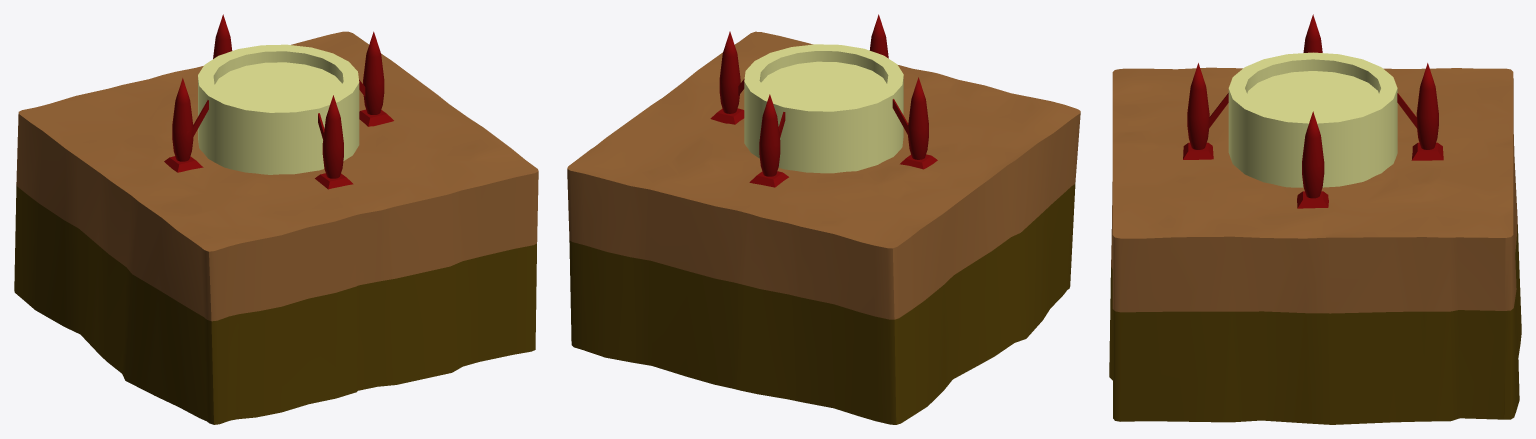
The model's file is rocket_base.fbx.
3 views of the same model, side by side, from view 1: azimuth 30°, elevation 25°; view 2: azimuth 150°, elevation 25°; view 3: azimuth 270°, elevation 25° (orthographic). The views are drawn at different scales.
Parts seen in each view (by area): view 1: polySurface32, polySurface42, polySurface34, polySurface43, polySurface41, polySurface40; view 2: polySurface32, polySurface42, polySurface40, polySurface34, polySurface41, polySurface43; view 3: polySurface32, polySurface42, polySurface41, polySurface43, polySurface40, polySurface34, polySurface39, polySurface46, polySurface44.
Boxes of the visible parts, box(x1,y1,x2,y2) form: polySurface32: box(14, 31, 538, 424); polySurface42: box(198, 44, 359, 174); polySurface34: box(172, 78, 193, 161); polySurface43: box(322, 95, 343, 178); polySurface41: box(363, 31, 384, 114); polySurface40: box(213, 14, 232, 58); polySurface32: box(567, 31, 1080, 424); polySurface42: box(744, 44, 903, 173); polySurface40: box(759, 94, 780, 176); polySurface34: box(908, 77, 928, 159); polySurface41: box(719, 31, 740, 113); polySurface43: box(869, 14, 888, 58); polySurface32: box(1109, 67, 1521, 424); polySurface42: box(1228, 52, 1397, 187); polySurface41: box(1302, 111, 1324, 198); polySurface43: box(1187, 63, 1209, 149); polySurface40: box(1416, 63, 1438, 149); polySurface34: box(1303, 14, 1322, 52); polySurface39: box(1411, 142, 1443, 160); polySurface46: box(1297, 191, 1328, 208); polySurface44: box(1183, 142, 1213, 159).
Bounding box in the file's own units: 20.78 × 15.03 × 20.34.
